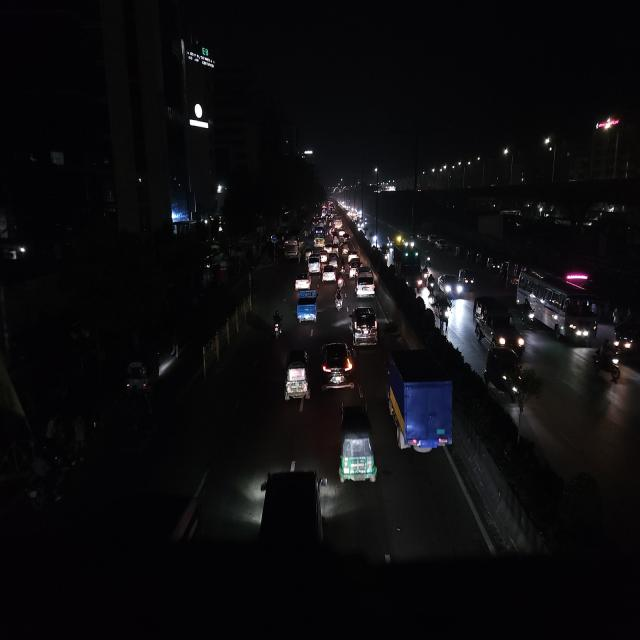bus: (514, 266, 598, 345), (282, 234, 302, 262), (313, 225, 325, 245)
car: (472, 293, 524, 354), (319, 335, 353, 391), (124, 349, 162, 396), (349, 304, 381, 348), (355, 265, 377, 302), (401, 259, 423, 292), (440, 270, 463, 300), (294, 270, 312, 290), (321, 264, 337, 284), (306, 253, 322, 272), (461, 267, 475, 288), (347, 255, 361, 274), (435, 237, 445, 250)
cng: (336, 400, 378, 492), (484, 345, 525, 404), (284, 345, 310, 408), (592, 340, 622, 381)
motorcycle: (592, 340, 622, 381), (520, 298, 536, 330), (270, 308, 284, 342), (438, 309, 451, 338), (334, 289, 344, 314), (426, 274, 436, 296), (425, 253, 433, 270)
pickup_van: (294, 287, 320, 324)
truck: (385, 344, 455, 465)
